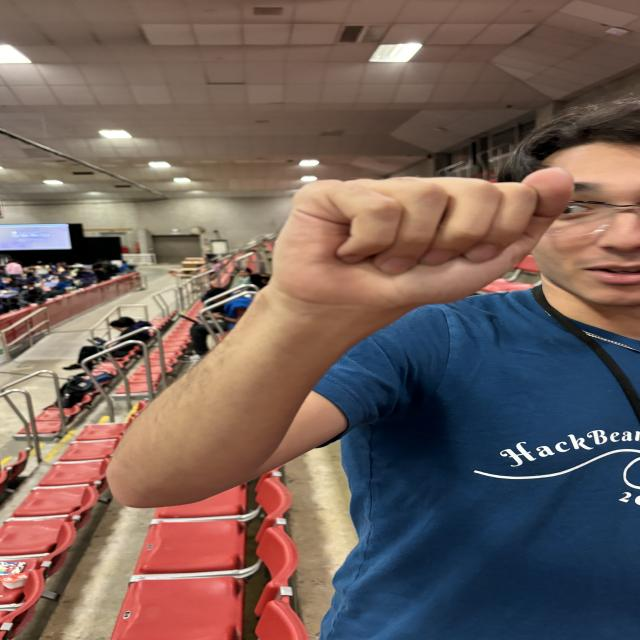A: (268, 166, 600, 317)
